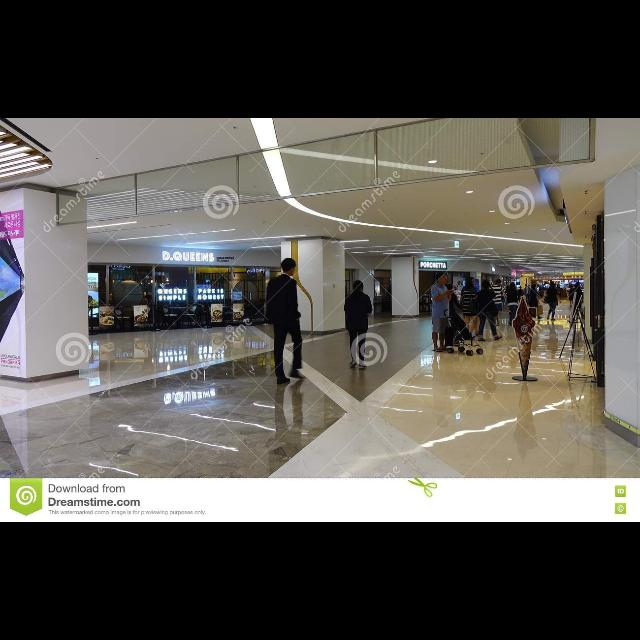head: (282, 258, 296, 276), (436, 272, 448, 286), (354, 280, 364, 292), (482, 280, 490, 290), (446, 283, 454, 293), (465, 278, 473, 286), (496, 280, 502, 286), (510, 283, 516, 289), (576, 282, 580, 288), (569, 284, 573, 290), (532, 286, 536, 290), (552, 284, 556, 288), (556, 284, 560, 288), (520, 286, 522, 290), (526, 285, 528, 287)
person: (264, 258, 306, 386), (341, 280, 373, 374), (429, 272, 456, 354), (438, 282, 462, 350), (476, 279, 502, 341), (459, 276, 483, 340), (490, 278, 508, 328), (506, 282, 520, 328), (570, 282, 586, 322), (528, 280, 542, 320), (545, 281, 559, 321), (568, 284, 576, 308), (524, 284, 530, 304), (556, 284, 562, 304), (518, 286, 524, 304)
